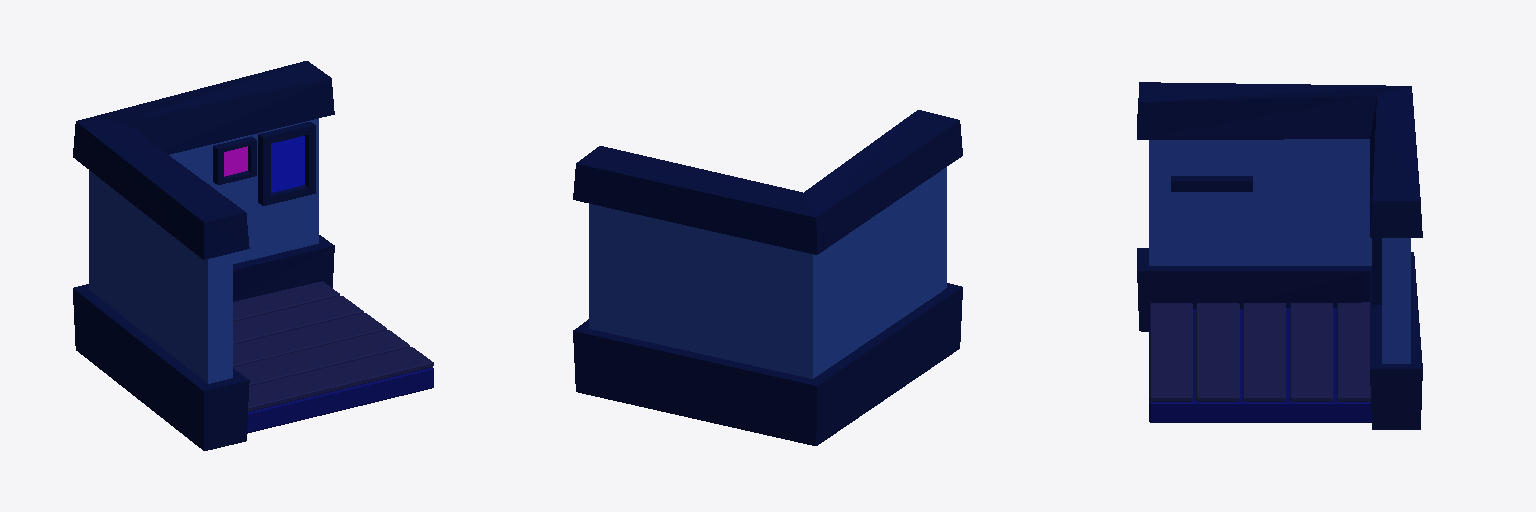
The model's file is stanzetta.obj.
The picture shows the model from 3 angles: view 1: azimuth 30°, elevation 25°; view 2: azimuth 150°, elevation 25°; view 3: azimuth 270°, elevation 25°; orthographic projection.
Visible parts, largest first — view 1: Cube_Cube.001, Plane.001, Plane; view 2: Cube_Cube.001; view 3: Cube_Cube.001, Plane.001, Plane.
Part boxes in pixels (x1,y1,x2,y2): Cube_Cube.001: (73, 61, 334, 450); Plane.001: (233, 281, 433, 411); Plane: (247, 367, 433, 433); Cube_Cube.001: (573, 110, 962, 445); Cube_Cube.001: (1137, 82, 1422, 429); Plane.001: (1150, 302, 1370, 401); Plane: (1149, 308, 1371, 422).
Size of the model in its own units: 9.82 by 9.06 by 9.82.